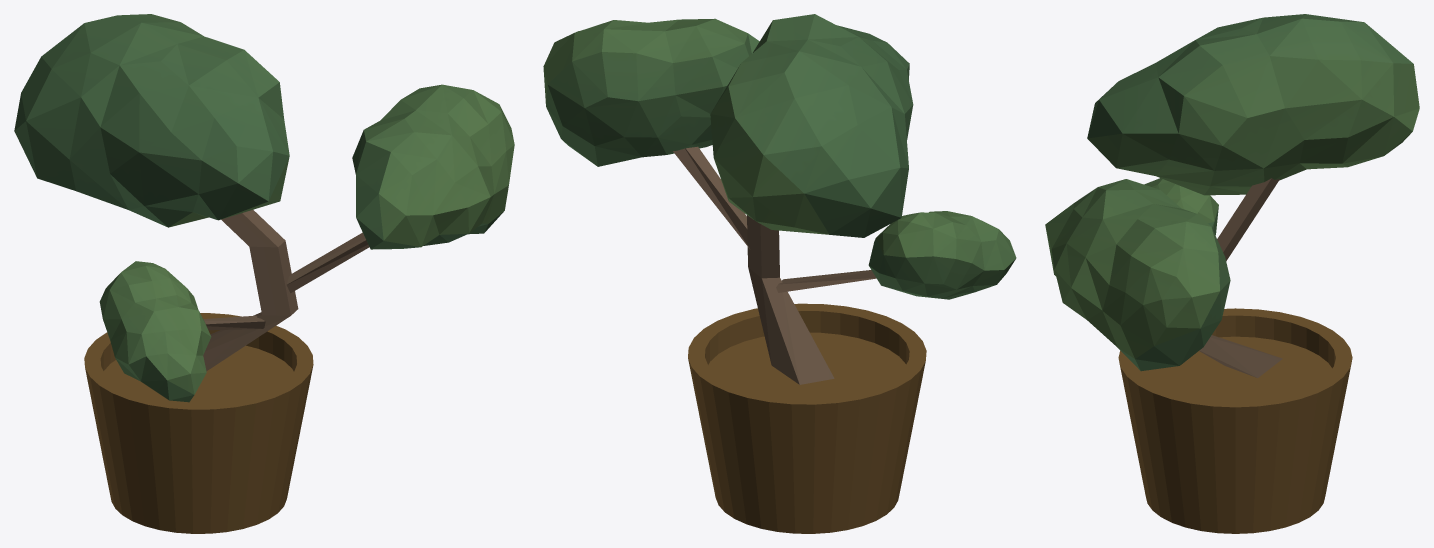
Rendered from bonzai-tree.glb.
The picture shows the model from 3 angles, left to right: view 1: azimuth 30°, elevation 25°; view 2: azimuth 150°, elevation 25°; view 3: azimuth 270°, elevation 25°; orthographic projection. The views are drawn at different scales.
Parts seen in each view (by area): view 1: tree-beech, planter; view 2: tree-beech, planter; view 3: tree-beech, planter.
Boxes of the visible parts, x1,y1,x2,y2 form: tree-beech: (14,14,514,402); planter: (84,313,313,533); tree-beech: (543,14,1016,384); planter: (688,303,926,533); tree-beech: (1045,14,1419,377); planter: (1118,308,1352,533).
Bounding box in the file's own units: 0.2685 × 0.2833 × 0.2069.
2 materials, 1 textured.
